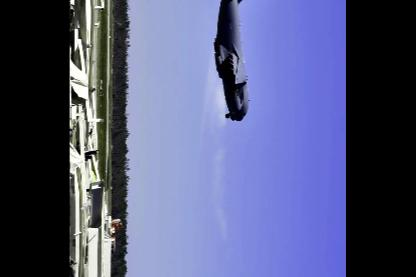C2: (214, 0, 270, 121)
